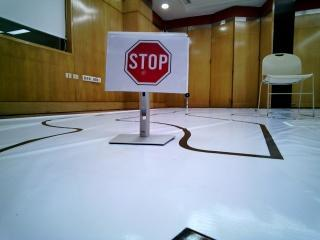stop: (107, 32, 189, 90)
